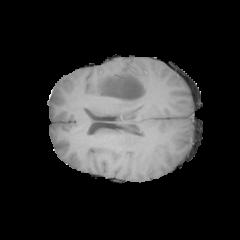glioma: (89, 69, 149, 153)
